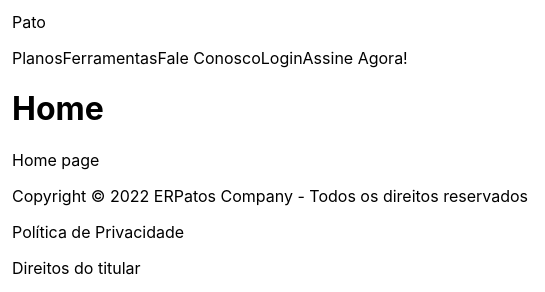
Scenario: Navigation › should navigate to the tools page
// Find a link with an href attribute containing "tools" and click it
Click the link "Ferramentas": (111, 58) [63,48,158,68]
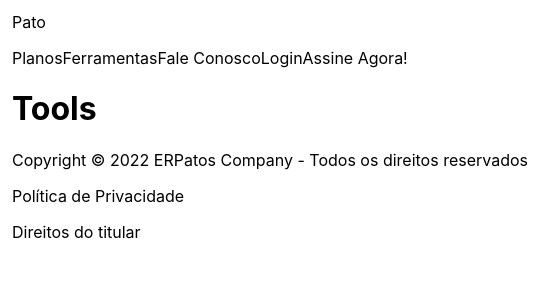
Now the heading "Tools" is shown, box [12,89,97,128]
